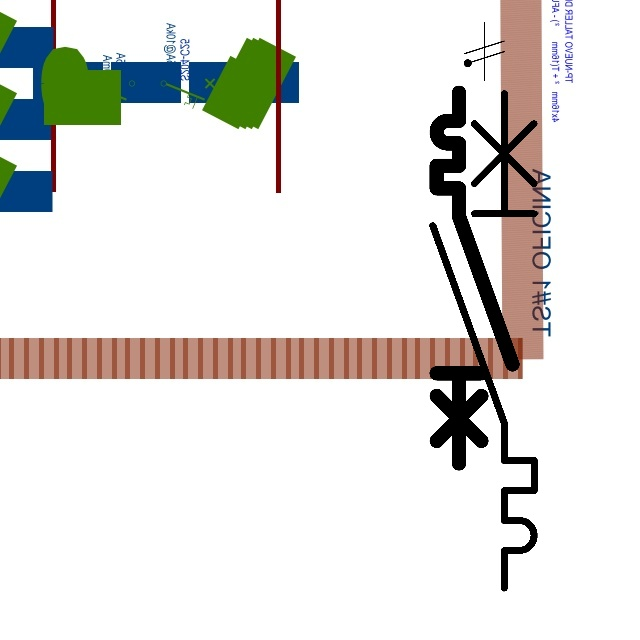interruptor_termomagnetico: (420, 80, 547, 600), (427, 83, 522, 473)
